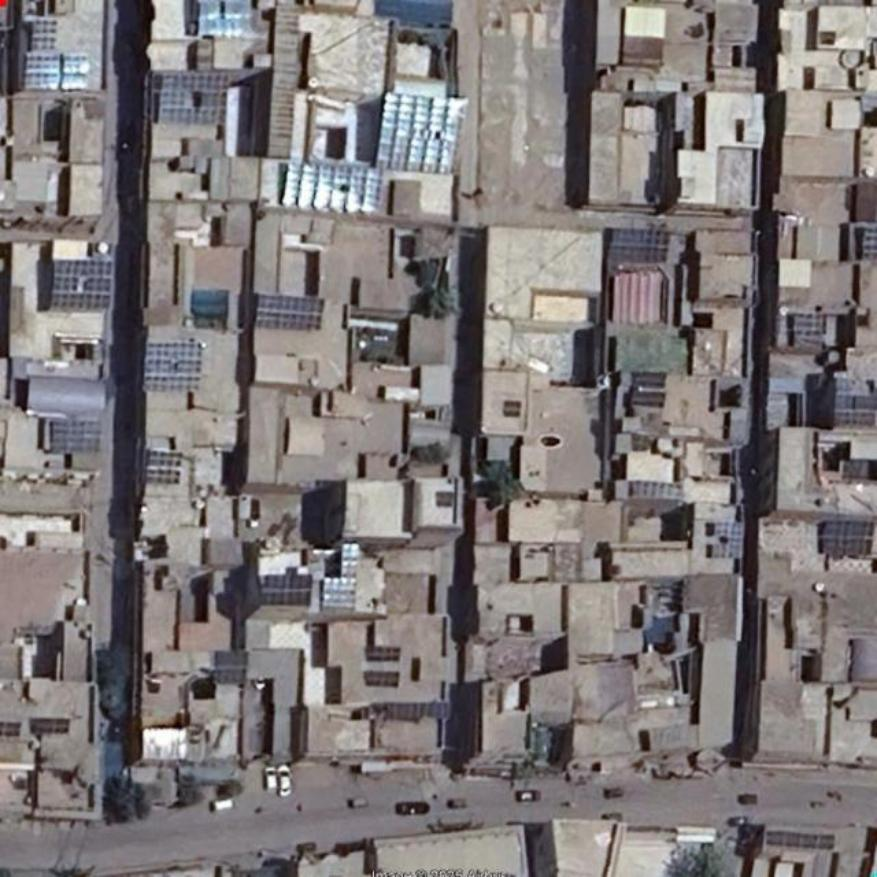Solarpanel: (377, 94, 464, 169), (284, 162, 382, 212), (158, 70, 228, 125), (50, 260, 113, 307), (145, 341, 205, 388), (257, 293, 327, 327), (23, 55, 87, 91), (822, 521, 876, 557), (611, 229, 669, 262), (51, 417, 102, 453), (263, 575, 311, 605), (145, 451, 183, 484), (712, 523, 745, 555), (792, 312, 824, 335), (33, 715, 68, 735), (31, 20, 55, 47), (364, 645, 402, 660), (363, 672, 400, 686), (863, 224, 876, 254)
